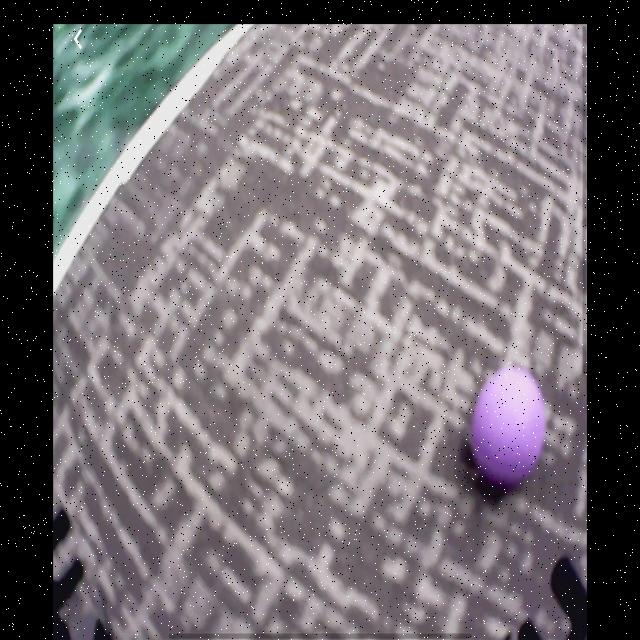ball: (472, 368, 546, 484)
